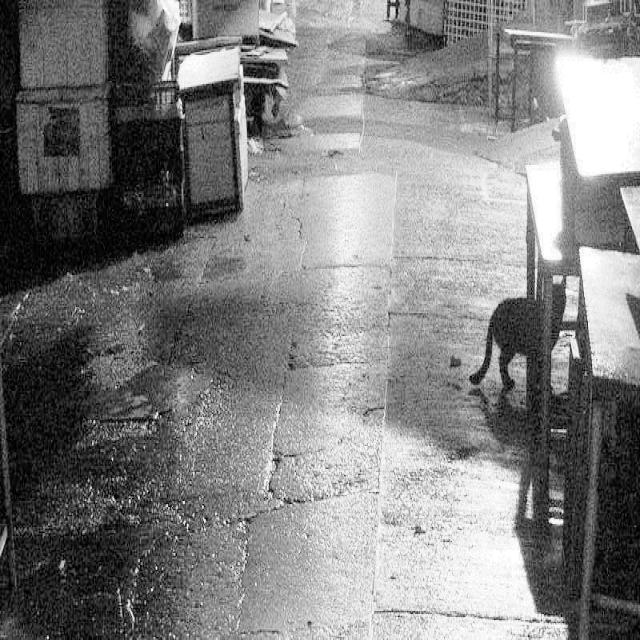Cat: (469, 261, 573, 429)
